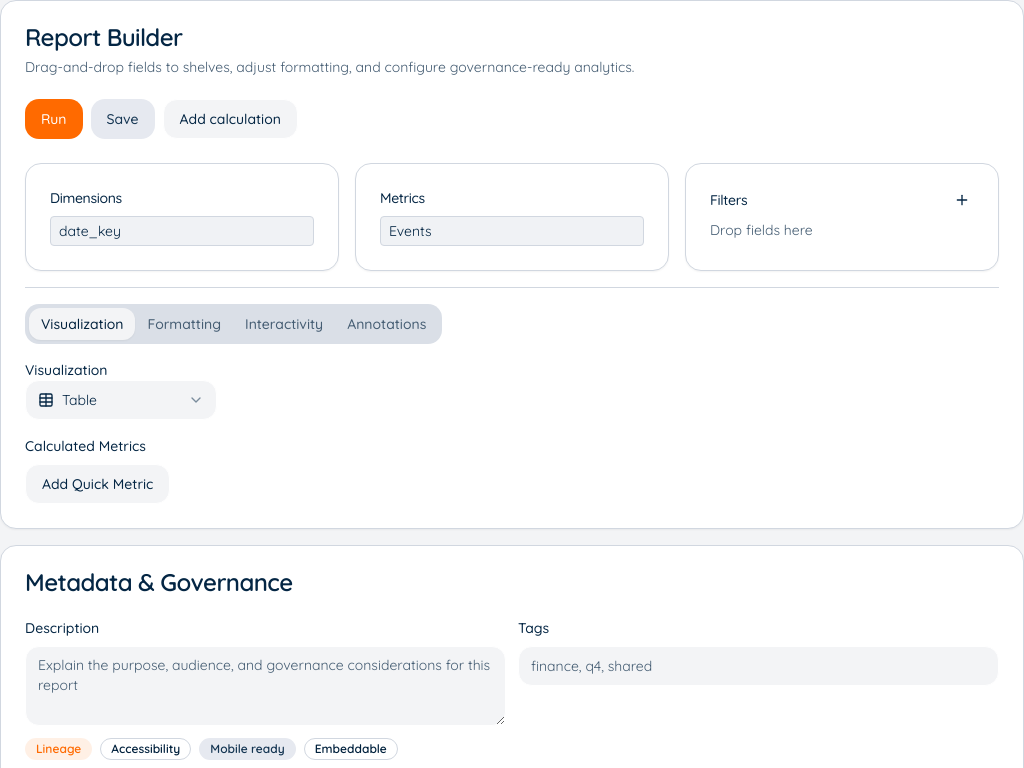
BuilderShell › opens calculated field modal
What coordinates should you click on to do the following:
click the button "Add calculation"
I would click on:
 (230, 119)
Its box is [162,99,298,139].
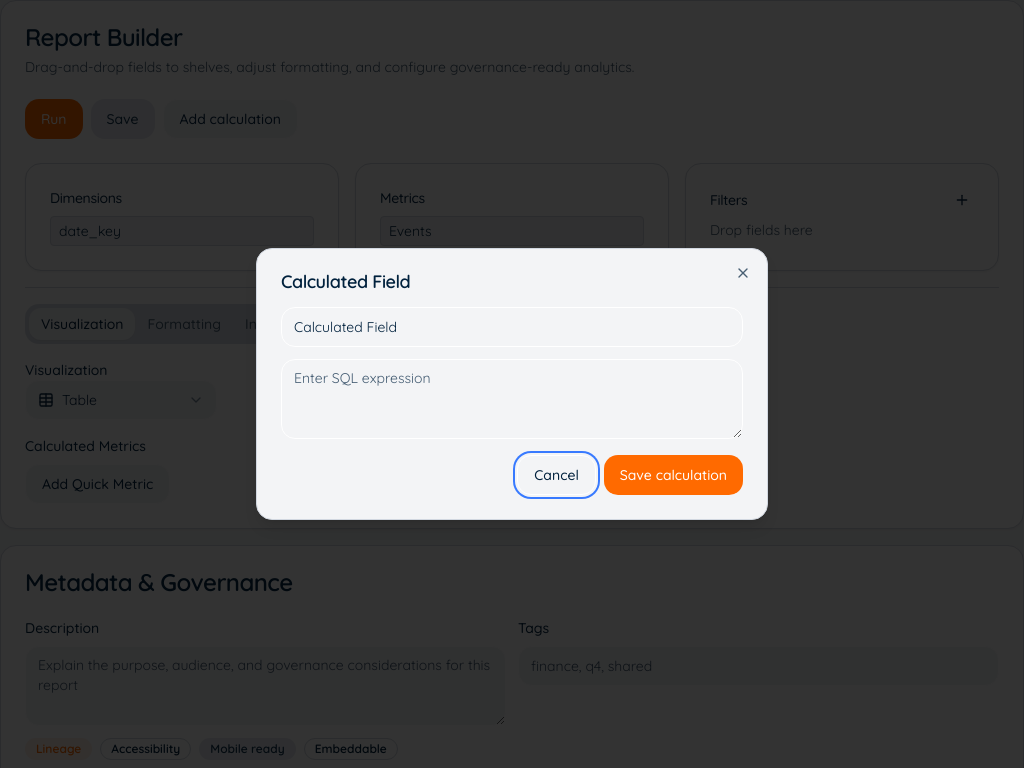
Now the heading "Calculated Field" is shown, box [281,270,410,293]
